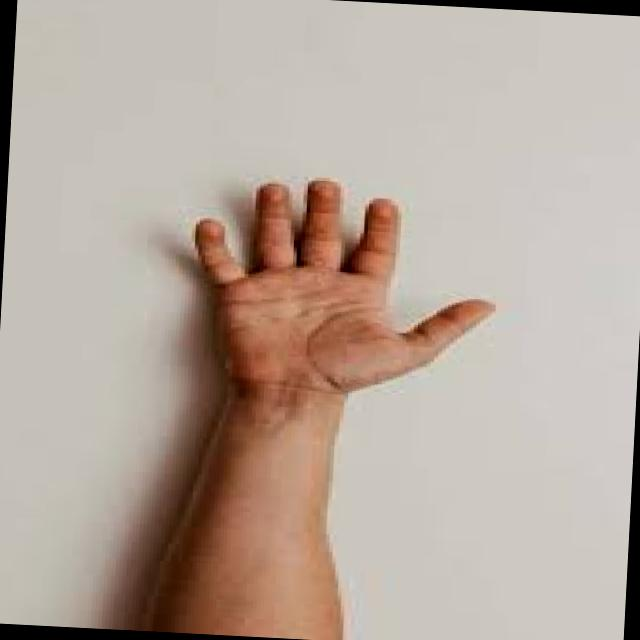Hand: (177, 162, 506, 406)
